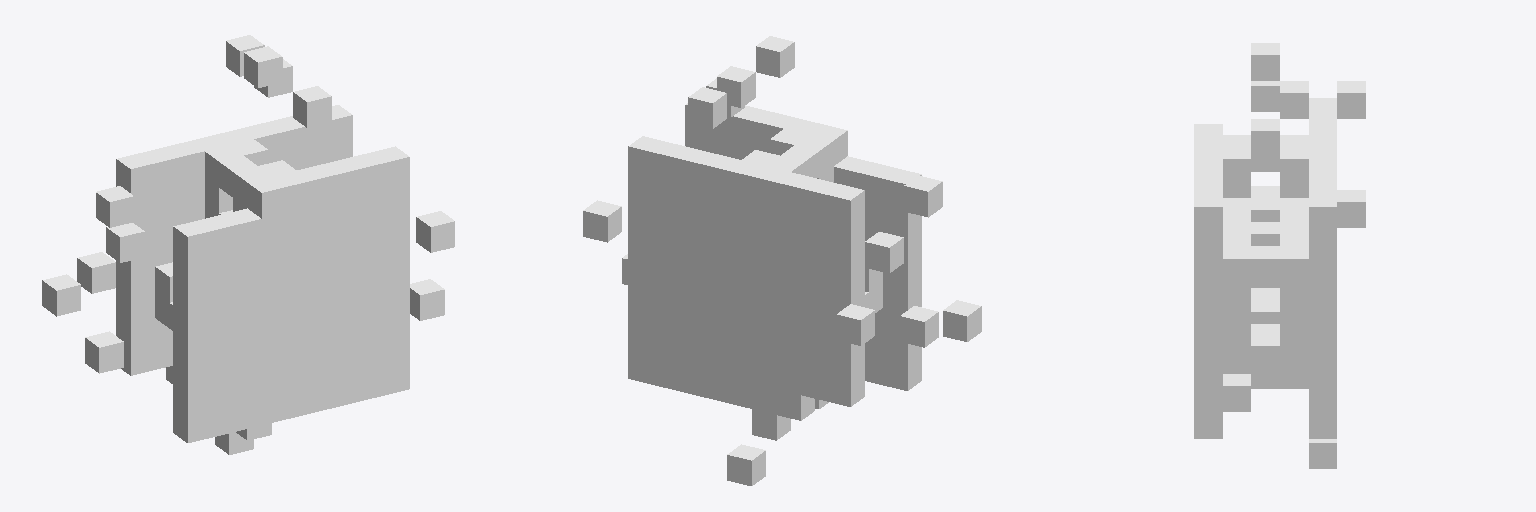
File: ml_tensorview.obj
The picture shows the model from 3 angles: view 1: azimuth 30°, elevation 25°; view 2: azimuth 150°, elevation 25°; view 3: azimuth 270°, elevation 25°; orthographic projection.
Parts seen in each view (by area): view 1: ml_tensorview; view 2: ml_tensorview; view 3: ml_tensorview.
Part boxes in pixels (x1,y1,x2,y2): ml_tensorview: (42, 35, 454, 454); ml_tensorview: (583, 36, 981, 485); ml_tensorview: (1194, 43, 1365, 468).
Bounding box in the file's own units: 15 × 16 × 6.